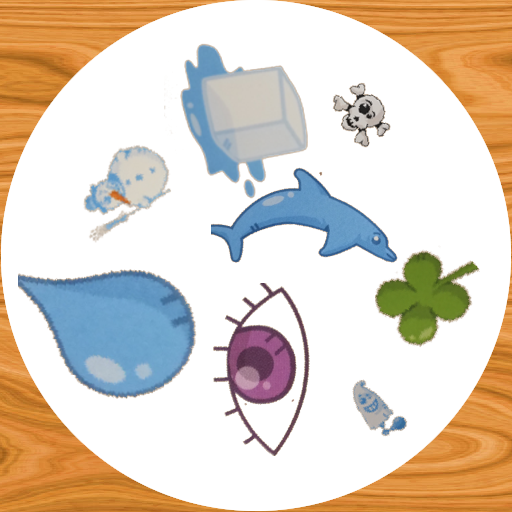cloverleaf_icon: (375, 245, 490, 360)
cube_icon: (164, 25, 340, 201)
dolphin_icon: (211, 133, 400, 322)
eye_icon: (181, 283, 354, 456)
ghost_icon: (342, 374, 411, 443)
raindrop_icon: (18, 231, 201, 414)
skull_icon: (328, 80, 399, 151)
snowman_icon: (71, 143, 179, 251)
